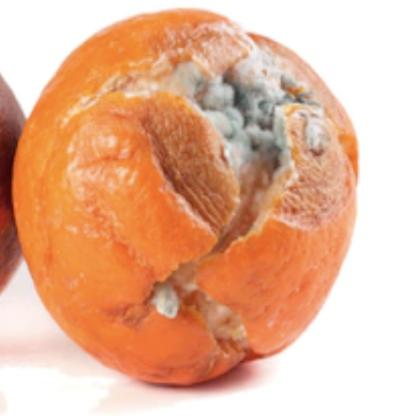rotten: (6, 8, 357, 389)
